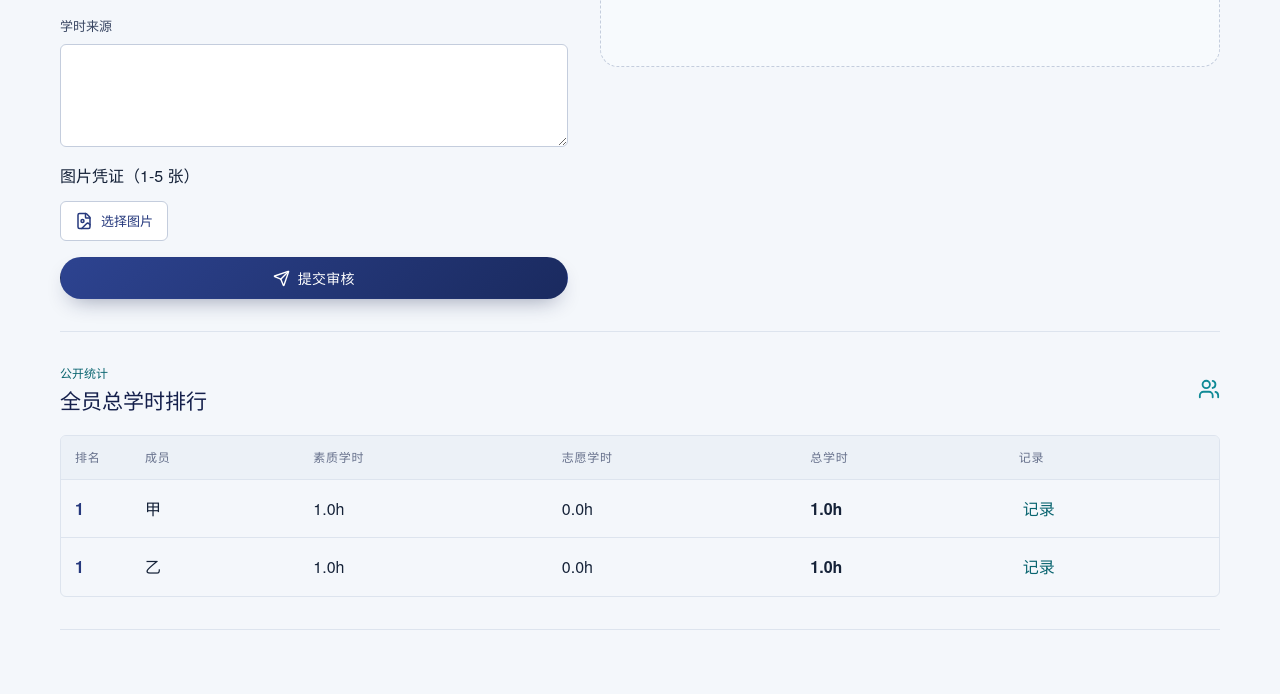
Test: CreditHoursView safety › does not replace B public records with a late response for A after closing and reopening
(page scrolled)
Click the 1st button "记录" at (1039, 509), box [1019, 492, 1059, 525]
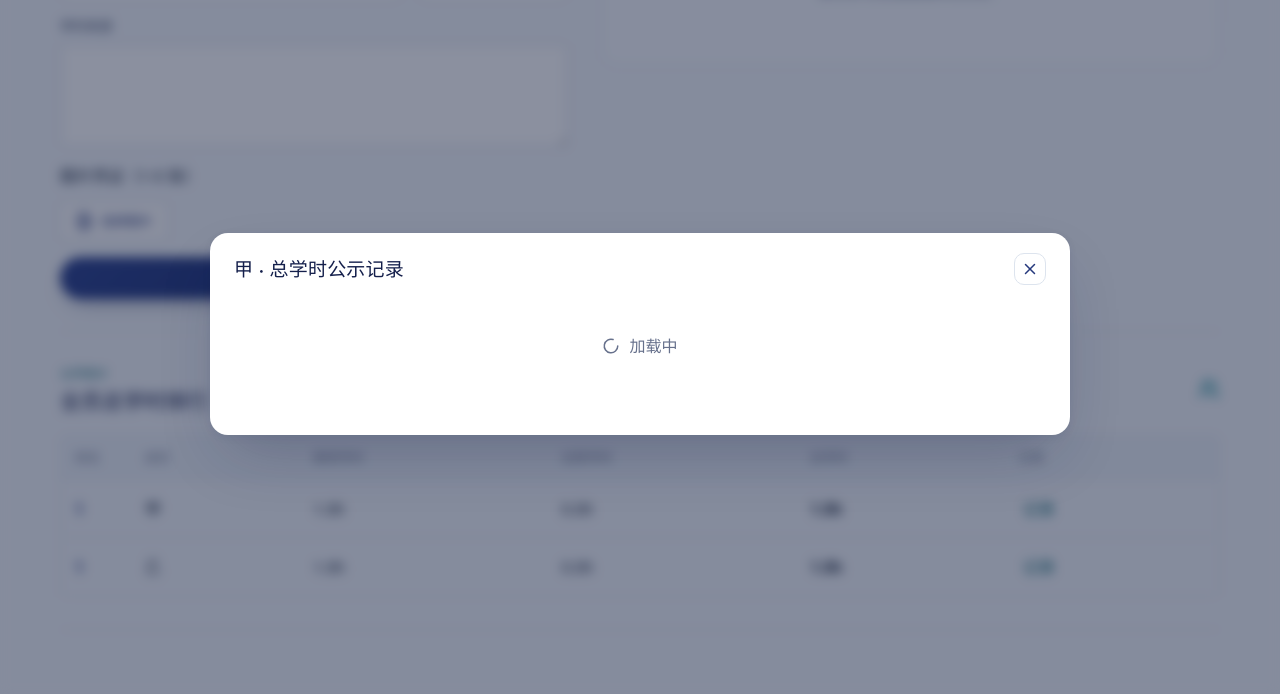
Click the button named "关闭对话框" at (1030, 269), box [1014, 253, 1046, 285]
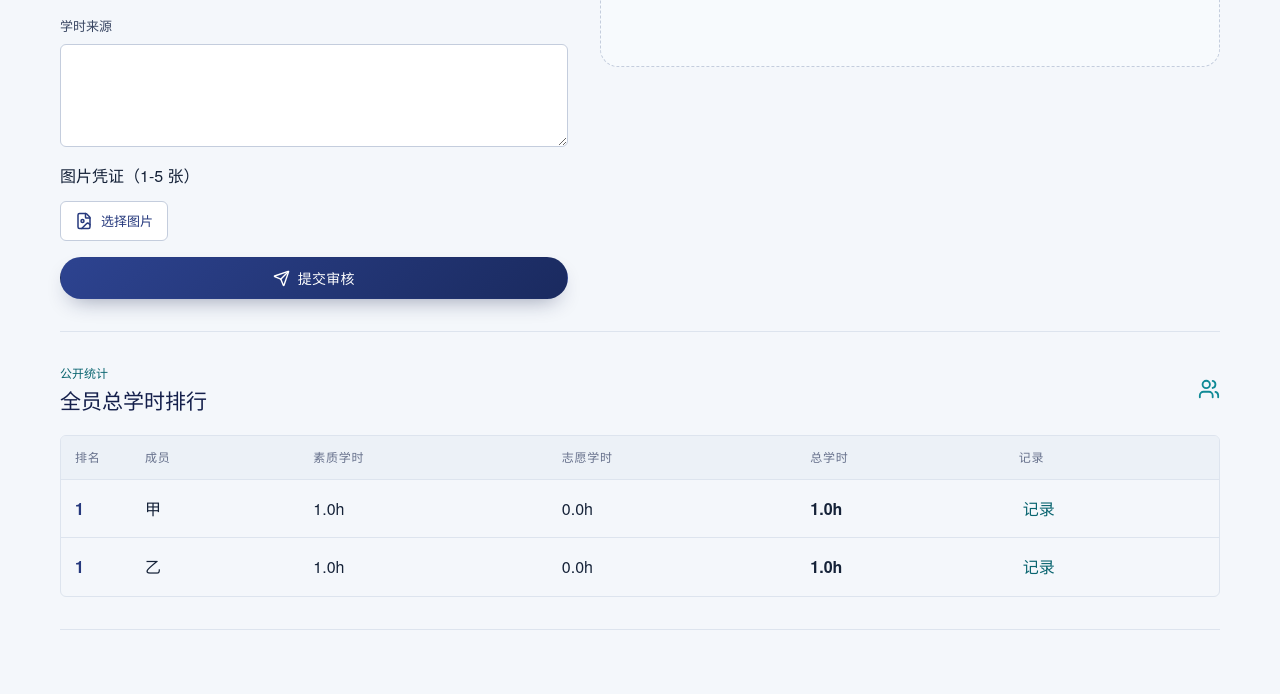
Click the 2nd button "记录" at (1039, 567), box [1019, 550, 1059, 584]
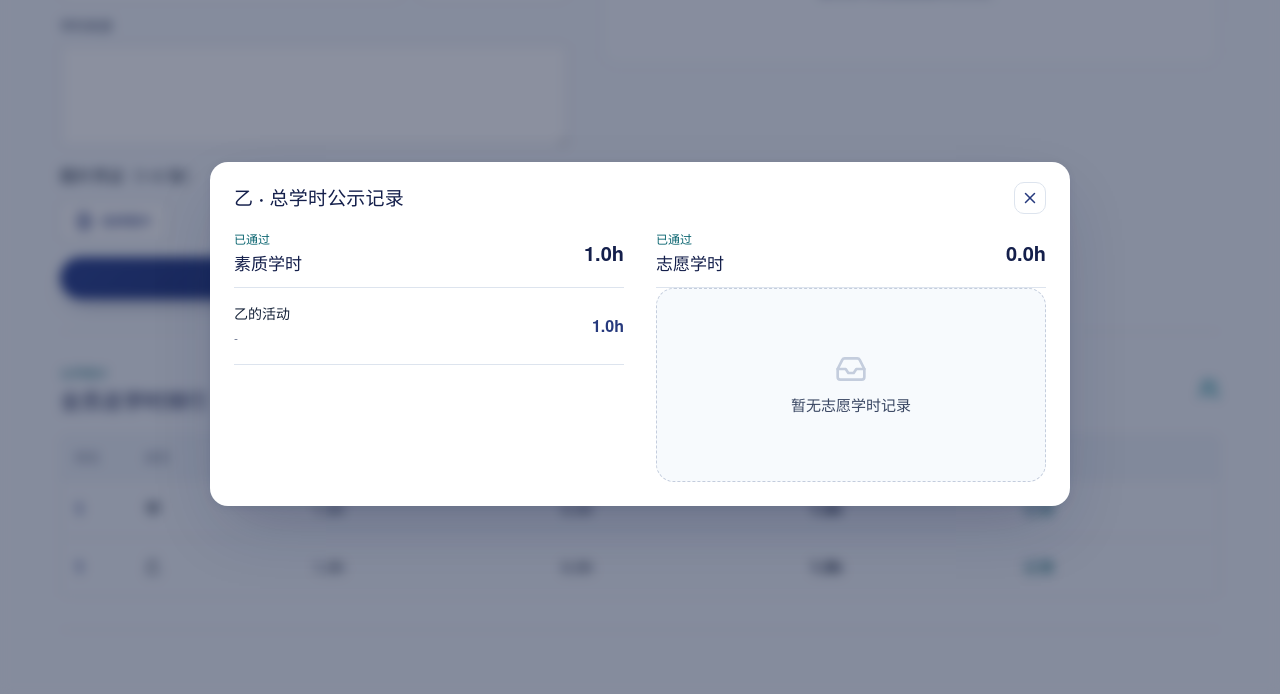
Check: the dialog shows "乙的活动", box [234, 303, 290, 323]
